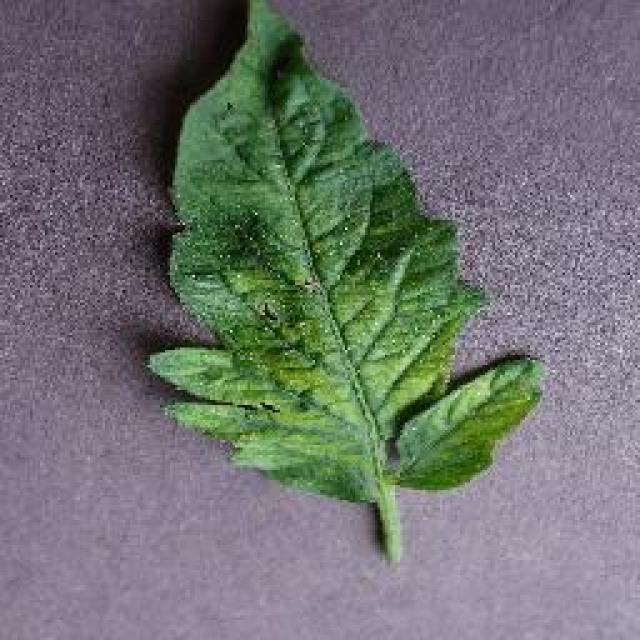Tomato spider mites leaf: (152, 0, 546, 498)
